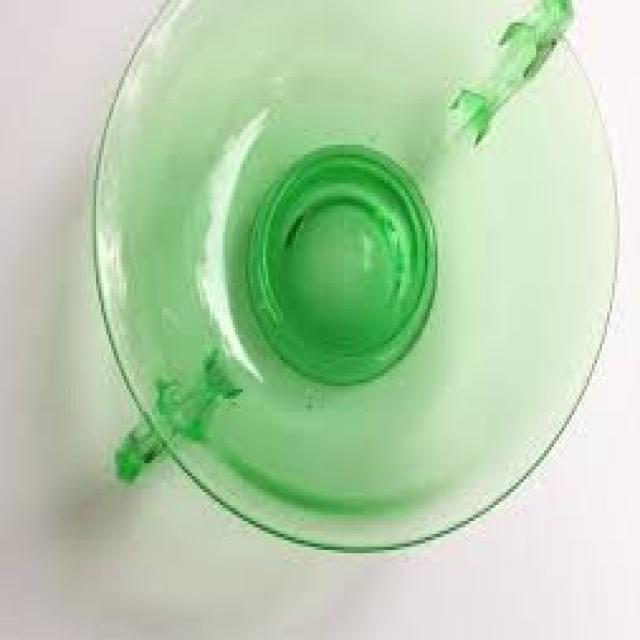glass: (91, 0, 617, 553)
